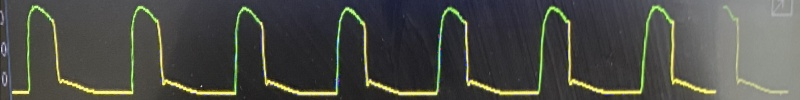normal_pressure: (9, 0, 784, 100)
